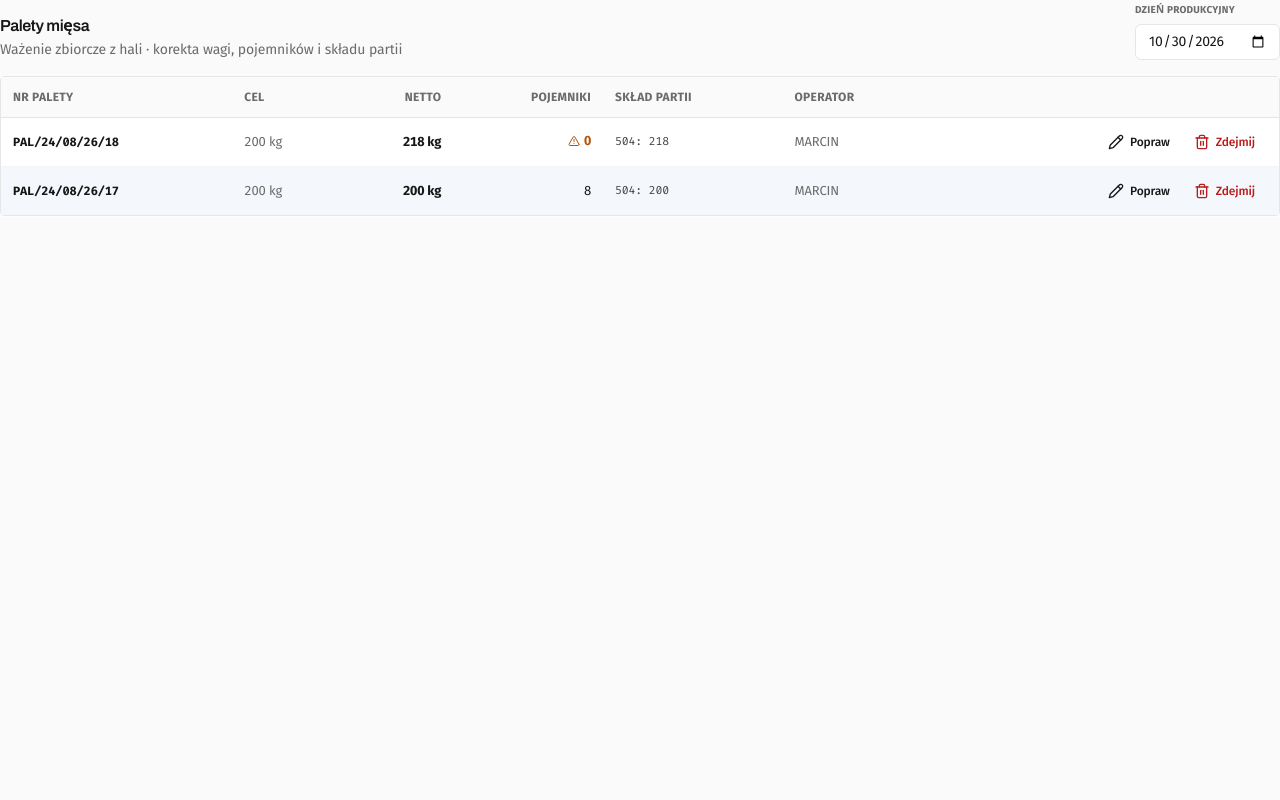
Scenario: MeatPalletsPage — korekta palety › okno startuje od AKTUALNYCH danych palety
Click the button "Popraw" in the row of "PAL/24/08/26/18". click: x=1139, y=142
box: 1096,126 -> 1182,158
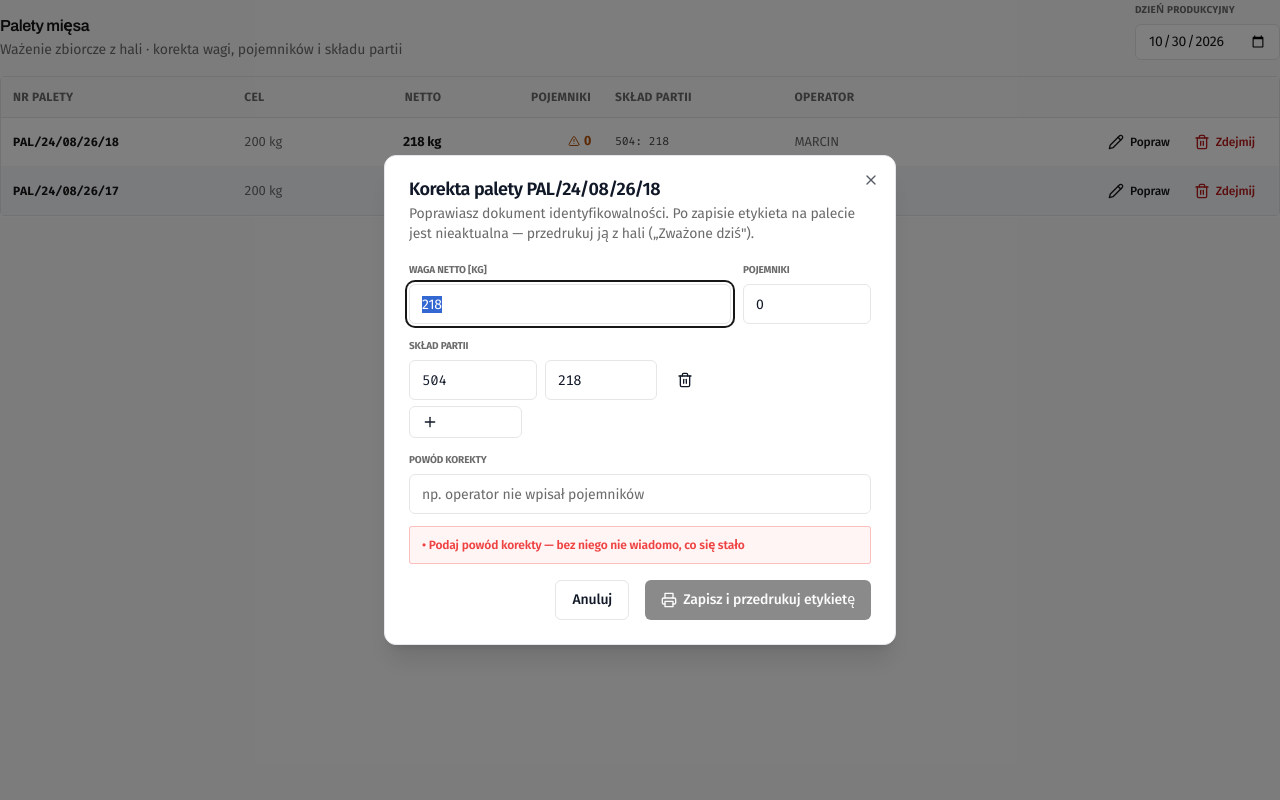
Expected: the field below "Waga netto [kg]" holds "218", 409,284 -> 731,324
Expected: the 2nd field holds "0", 743,284 -> 871,324
Expected: the number of elements with test id "korekta-lot" is 1, 409,360 -> 705,400
